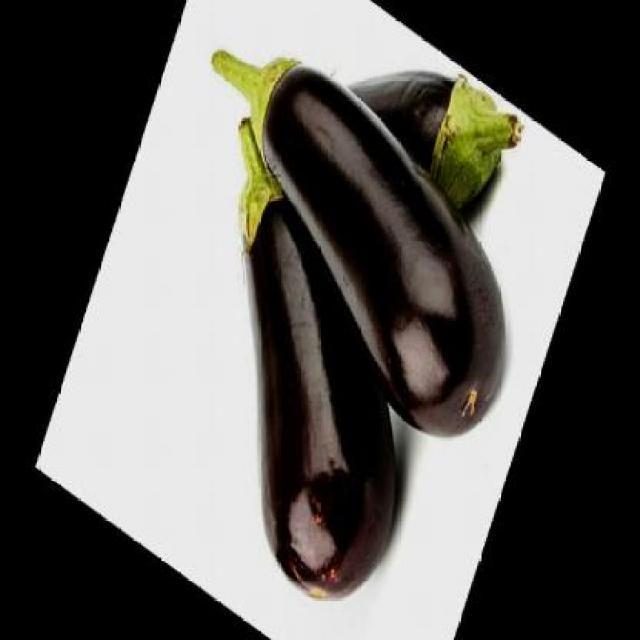eggplant: (207, 44, 513, 438), (228, 115, 404, 608), (331, 64, 529, 232)
